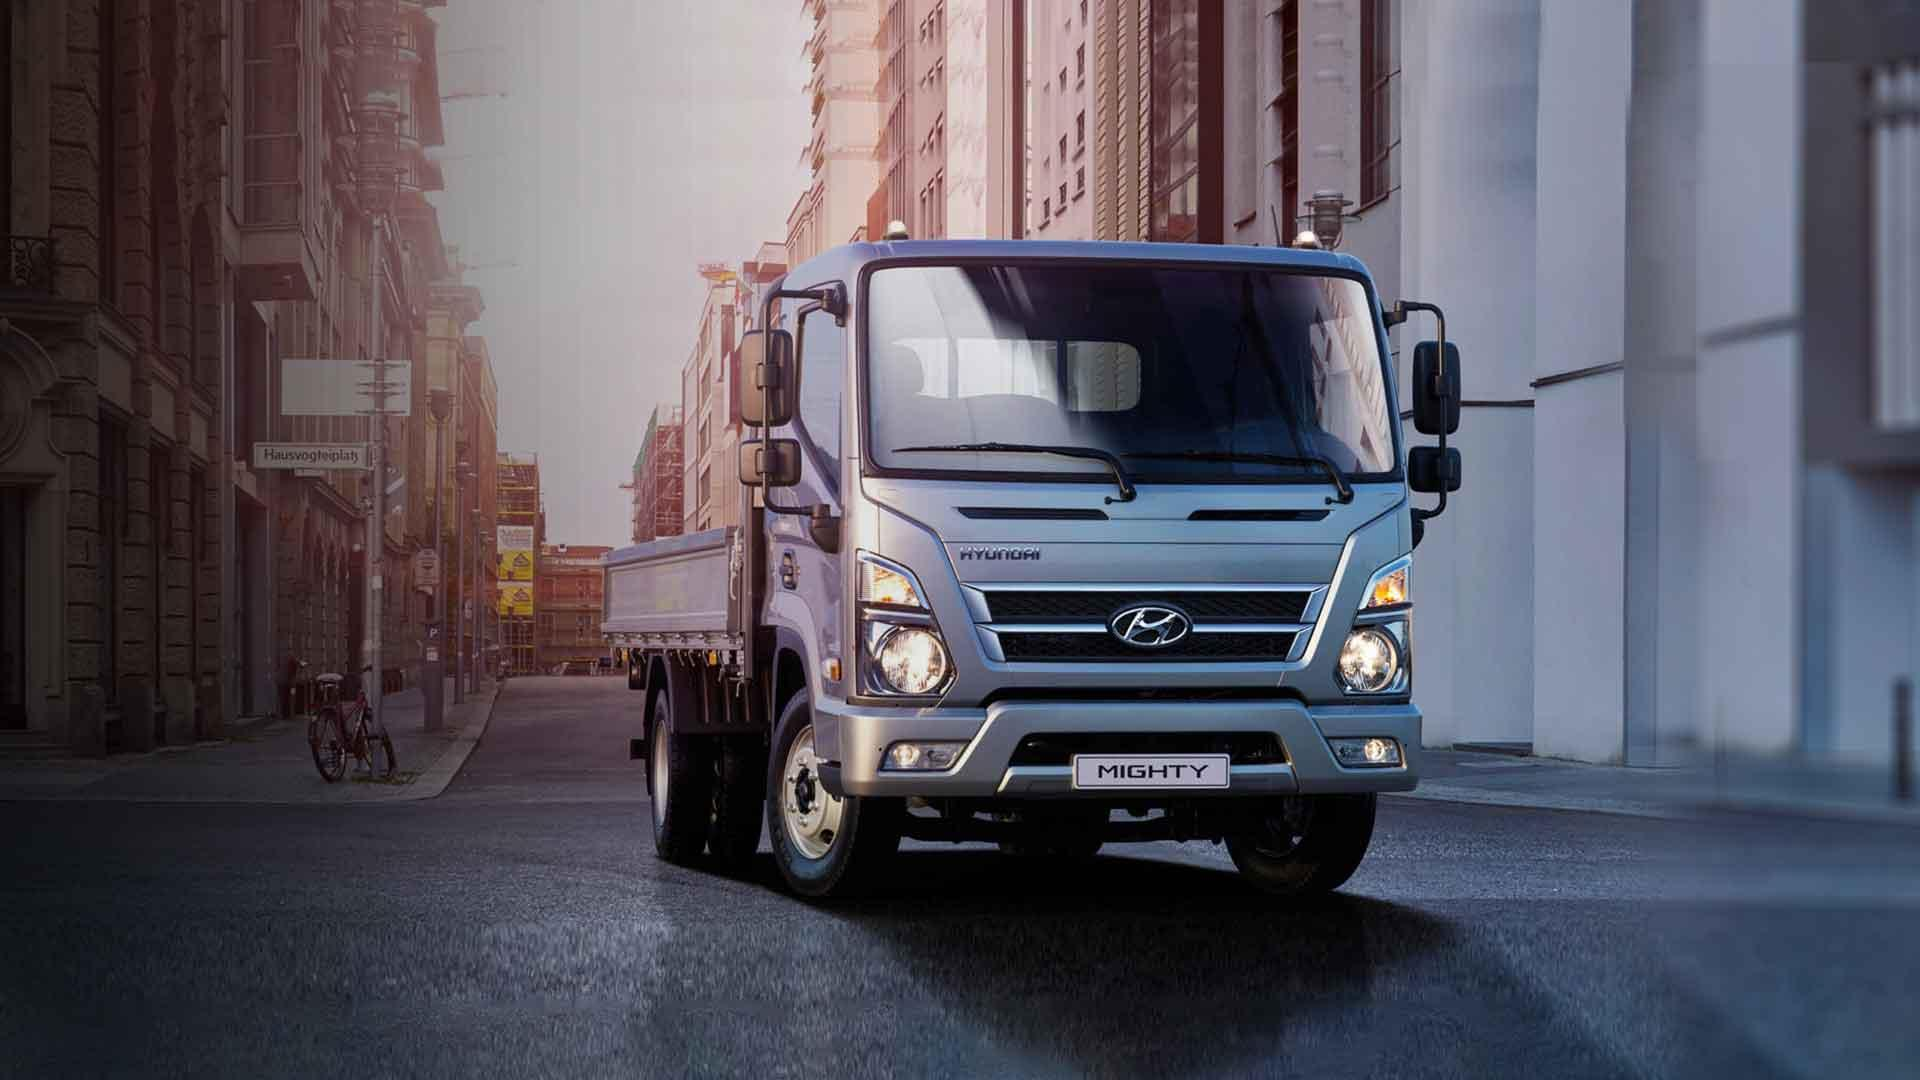truck: (596, 240, 1462, 910)
